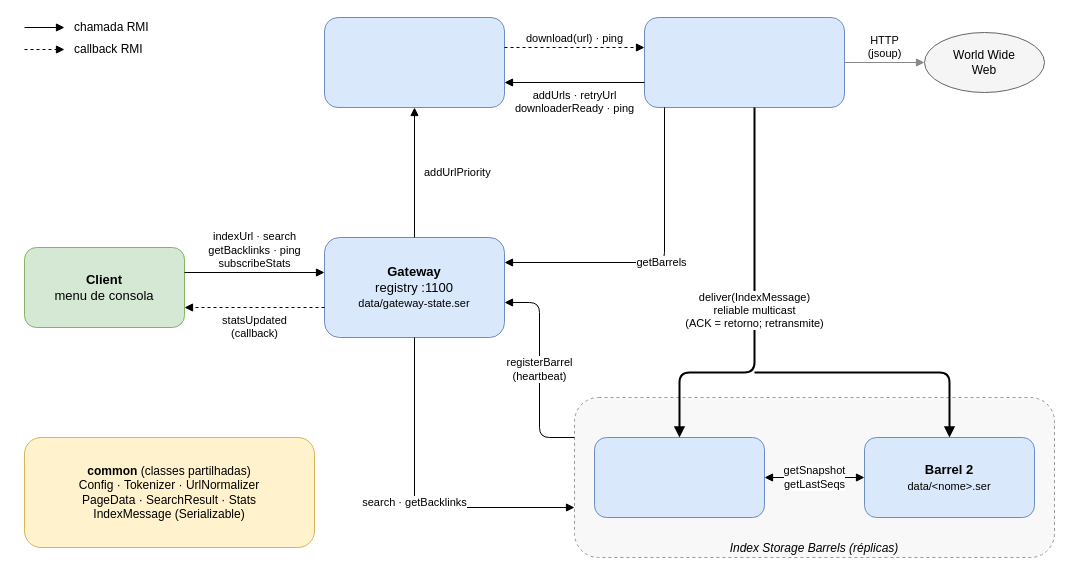
This 1072x575 diagram has some shape labels left out. The shapes that lost their labels are listed below. From the top down, each one's centre as x and y in pixels, then its label:
point (414, 62): URLQueue registry :1099 data/queue-state.ser
point (744, 62): Downloaders 1..N em paralelo (ReliableMulticast)
point (679, 477): Barrel 1 data/<nome>.ser
